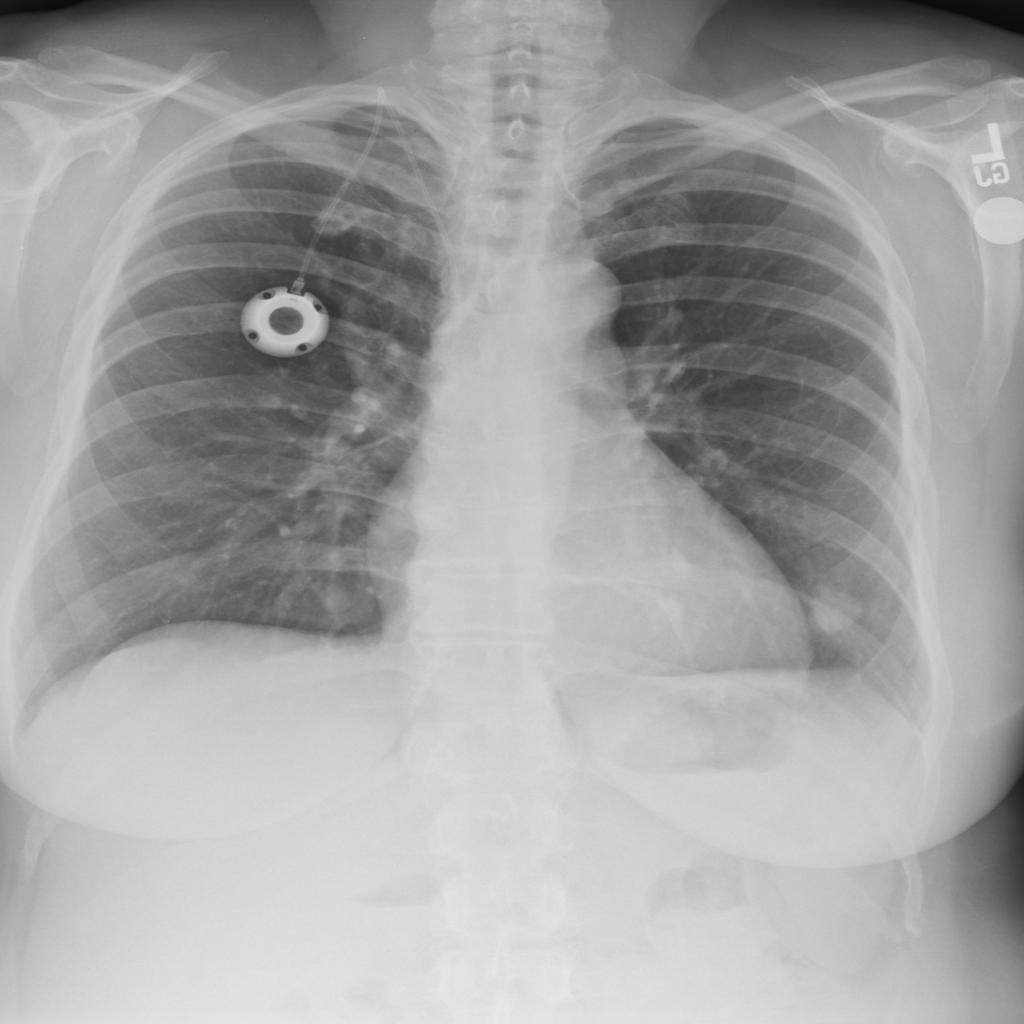nodule: (793, 569, 877, 646), (299, 567, 384, 632)
